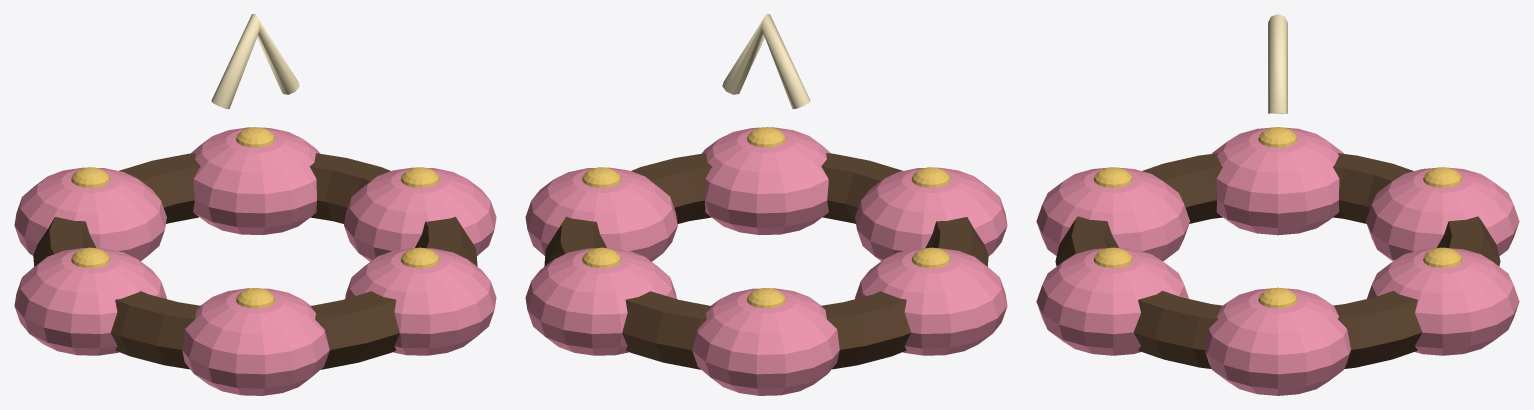
File: japan-sakura-wreath.glb
3 renders of one model, left to right at view 1: azimuth 30°, elevation 25°; view 2: azimuth 150°, elevation 25°; view 3: azimuth 270°, elevation 25°, orthographic.
Visible parts, largest first — view 1: さくらの わ, さくら.004, さくら.001, さくら.003, さくら.005, さくら, さくら.002, かける ひも, はなの しん.005, はなの しん.003, はなの しん.002, はなの しん.004 (+2 smaller); view 2: さくらの わ, さくら.002, さくら.005, さくら.003, さくら.001, さくら, さくら.004, かける ひも, はなの しん.001, はなの しん.003, はなの しん.002, はなの しん.004 (+2 smaller); view 3: さくらの わ, さくら, さくら.003, さくら.001, さくら.005, さくら.002, さくら.004, かける ひも, はなの しん.003, はなの しん.002, はなの しん.004, はなの しん.001 (+2 smaller).
Boxes of the visible parts, x1,y1,x2,y2 form: さくらの わ: (33,153,477,369); さくら.004: (182,288,329,395); さくら.001: (191,127,319,234); さくら.003: (14,248,166,355); さくら.005: (345,248,496,355); さくら: (344,167,496,261); さくら.002: (14,167,166,261); かける ひも: (211,14,299,109); はなの しん.005: (401,247,439,268); はなの しん.003: (71,247,110,268); はなの しん.002: (71,167,110,187); はなの しん.004: (236,288,274,308); さくらの わ: (544,153,988,369); さくら.002: (692,288,839,395); さくら.005: (702,127,830,234); さくら.003: (855,248,1007,355); さくら.001: (525,248,676,355); さくら: (525,167,677,261); さくら.004: (855,167,1007,261); かける ひも: (722,14,810,109); はなの しん.001: (582,247,620,268); はなの しん.003: (911,247,950,268); はなの しん.002: (747,288,785,308); はなの しん.004: (911,167,950,187); さくらの わ: (1055,153,1500,368); さくら: (1205,288,1350,395); さくら.003: (1212,127,1343,235); さくら.001: (1367,248,1519,355); さくら.005: (1036,248,1188,355); さくら.002: (1366,167,1519,261); さくら.004: (1036,167,1189,261); かける ひも: (1268,14,1287,113); はなの しん.003: (1258,127,1297,147); はなの しん.002: (1423,167,1462,187); はなの しん.004: (1093,167,1132,187); はなの しん.001: (1423,247,1462,268).
Bounding box in the file's own units: 1.32 × 0.795 × 1.19.
